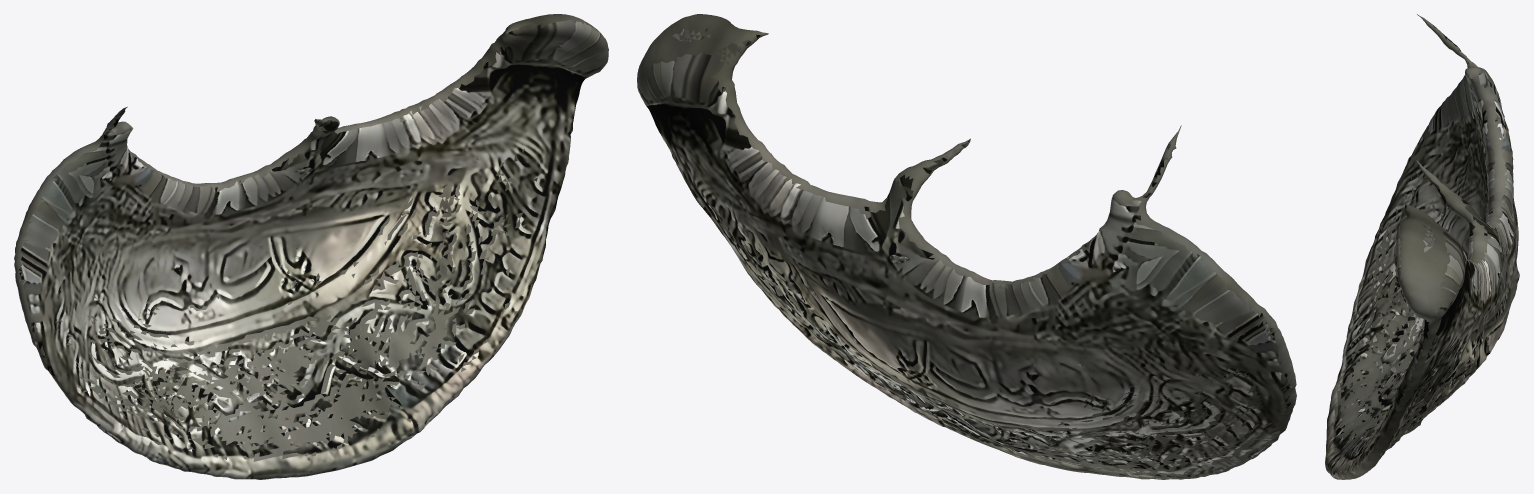
File: kfl-2160.glb
3 renders of one model, left to right at view 1: azimuth 30°, elevation 25°; view 2: azimuth 150°, elevation 25°; view 3: azimuth 270°, elevation 25°, orthographic. The views are drawn at different scales.
Parts seen in each view (by area): view 1: kfl-2160; view 2: kfl-2160; view 3: kfl-2160.
Part boxes in pixels (x1,y1,x2,y2): kfl-2160: (14,14,608,479); kfl-2160: (637,14,1296,479); kfl-2160: (1325,14,1519,479).
Bounding box in the file's own units: 0.9915 × 0.6078 × 0.2967.
4 materials, 4 textured.
